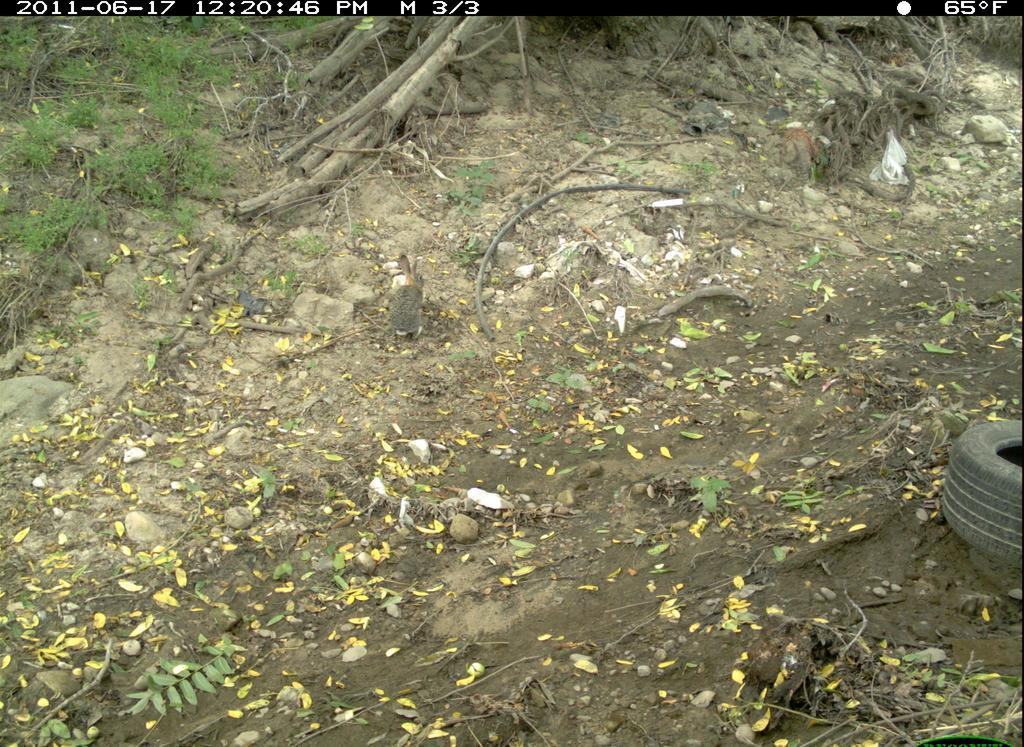rabbit: (376, 245, 441, 351)
